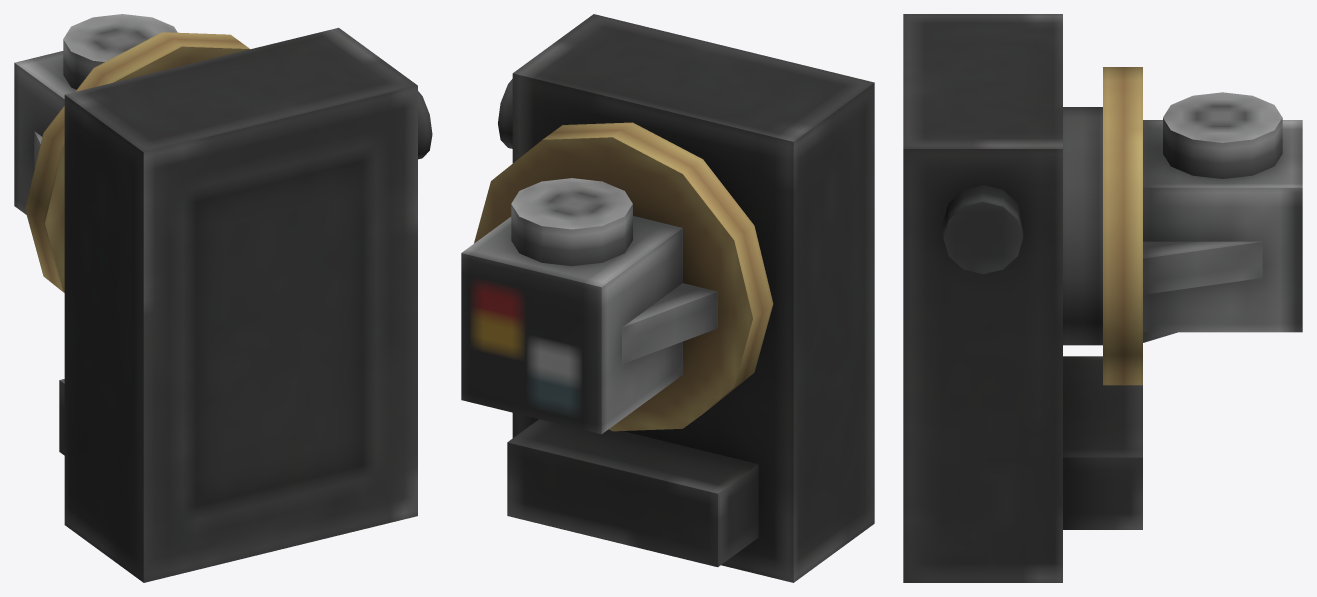
Rendered from 1f_sensor_photometer_srf_1.obj.
3 renders of one model, left to right at view 1: azimuth 30°, elevation 25°; view 2: azimuth 150°, elevation 25°; view 3: azimuth 270°, elevation 25°, orthographic. The views are drawn at different scales.
Visible parts, largest first — view 1: mesh1; view 2: mesh1; view 3: mesh1.
Boxes of the visible parts, x1,y1,x2,y2 form: mesh1: [14, 14, 432, 582]; mesh1: [461, 14, 874, 582]; mesh1: [903, 14, 1302, 582].
Size of the model in its own units: 0.1125 by 0.15 by 0.125.
1 material, 1 textured.
